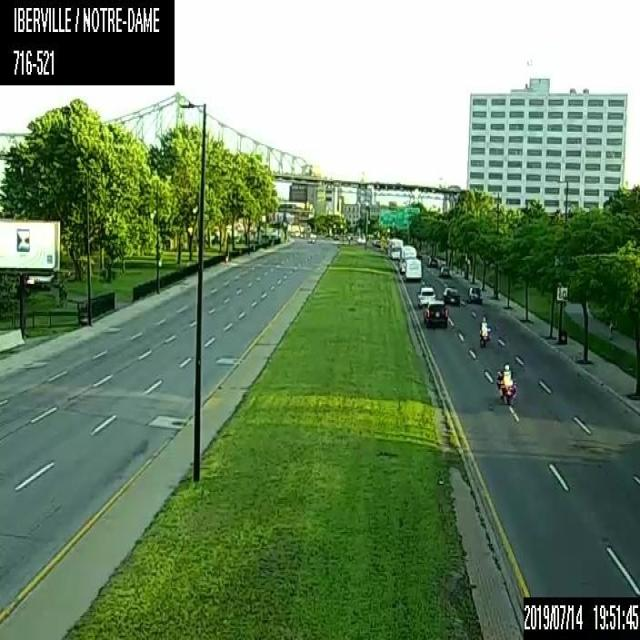bus: (399, 245, 416, 272), (388, 236, 402, 258)
vehicle: (496, 361, 514, 404), (423, 298, 448, 327), (416, 285, 435, 306), (404, 256, 421, 279), (478, 313, 489, 348), (442, 286, 460, 305), (465, 284, 481, 303), (438, 263, 449, 276), (428, 255, 438, 266), (306, 236, 316, 244)
